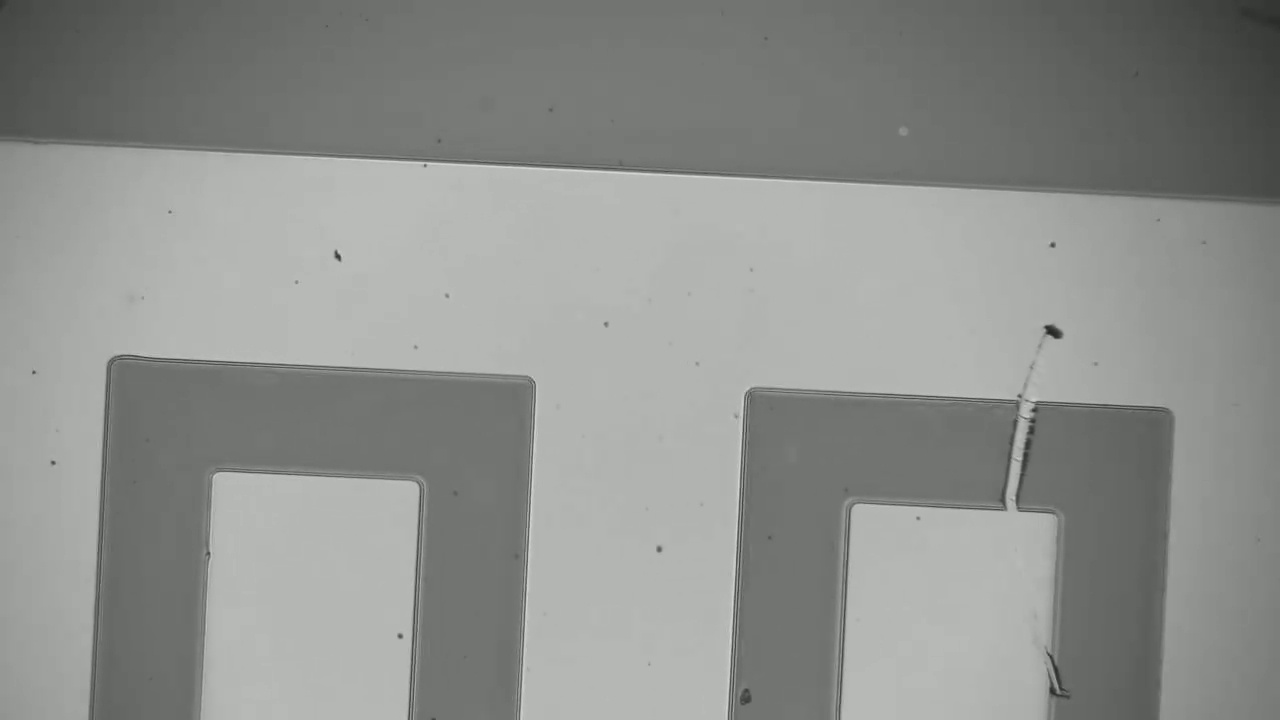Short_circuit: (978, 380, 1055, 536)
